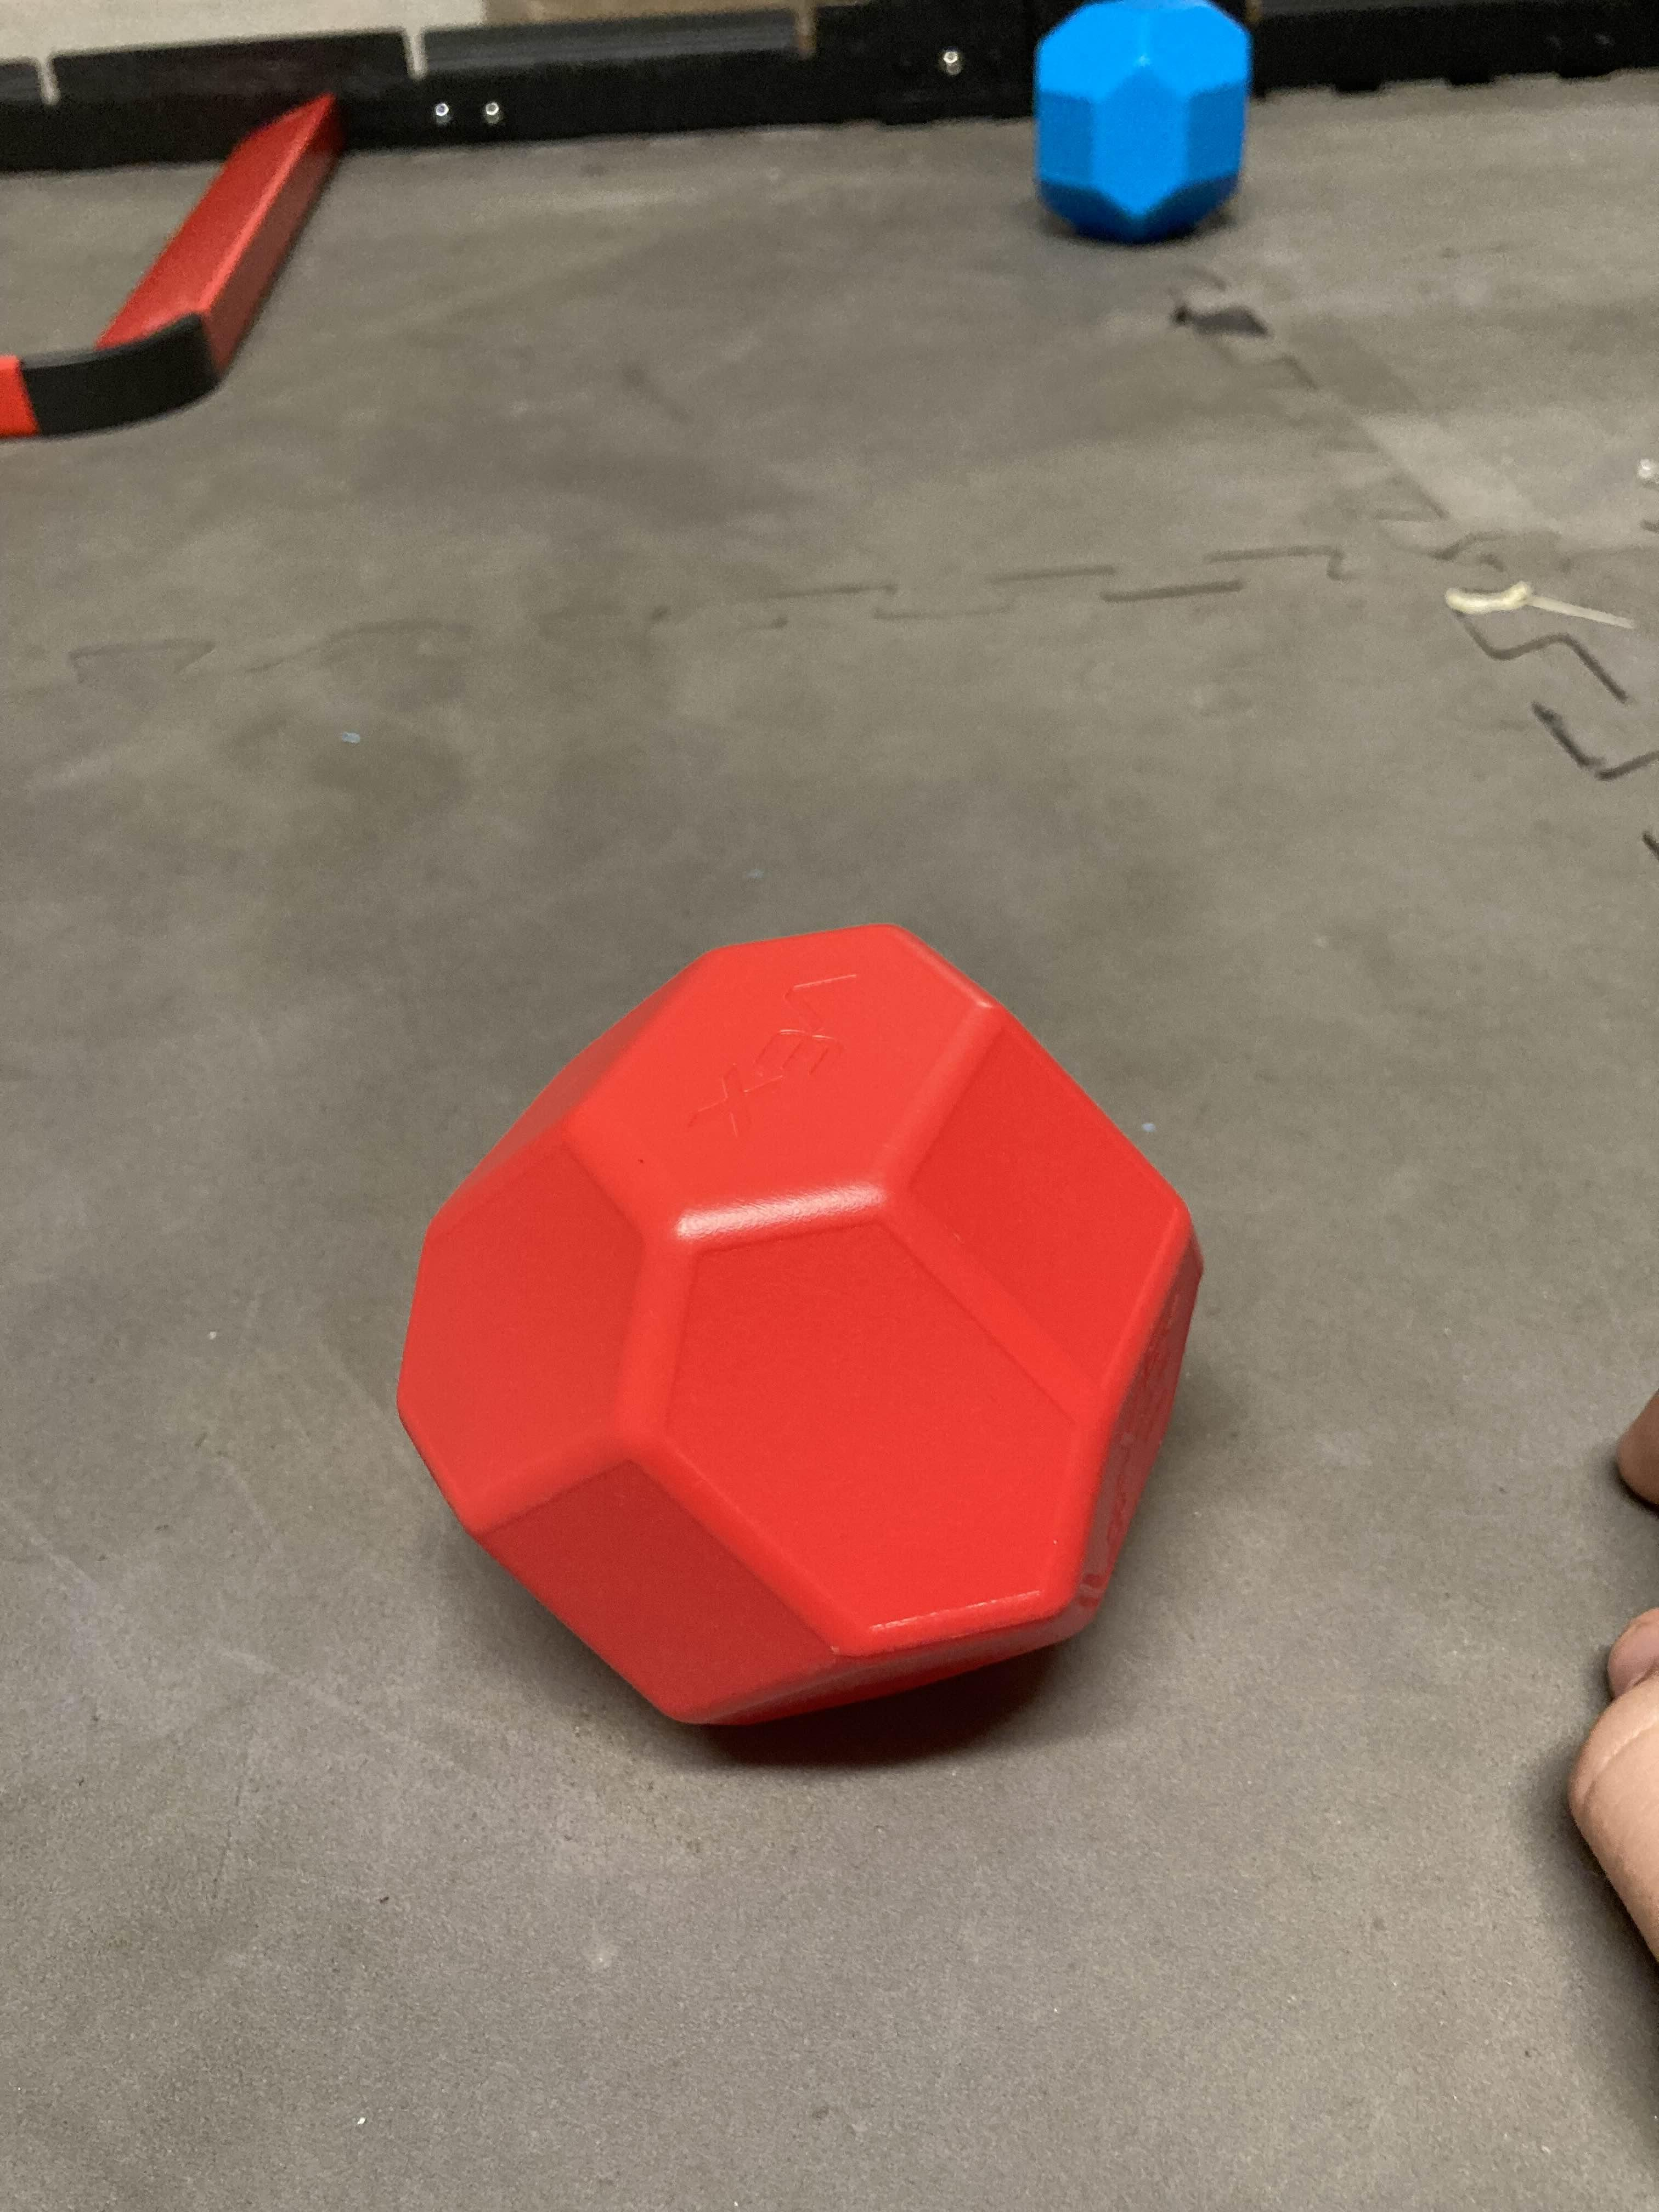Vex-Pieces-BLUE: (1033, 0, 1251, 240)
Vex-Pieces-RED: (390, 928, 1204, 1745)
